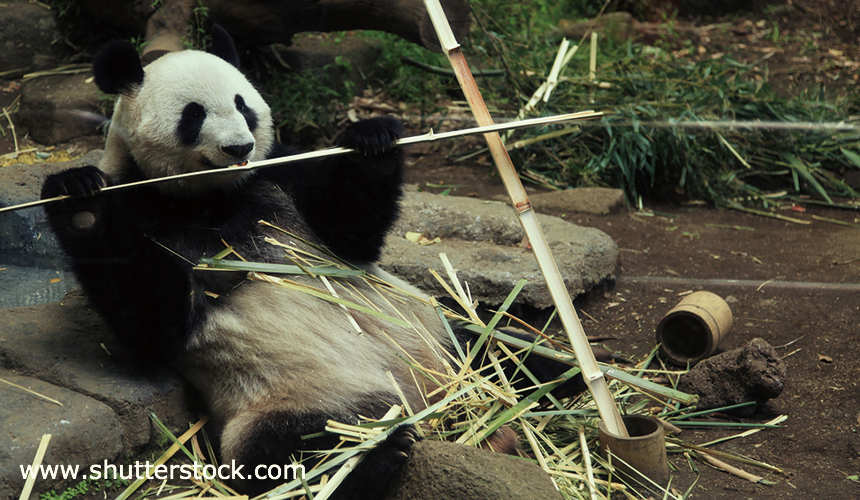panda: (42, 37, 599, 500)
